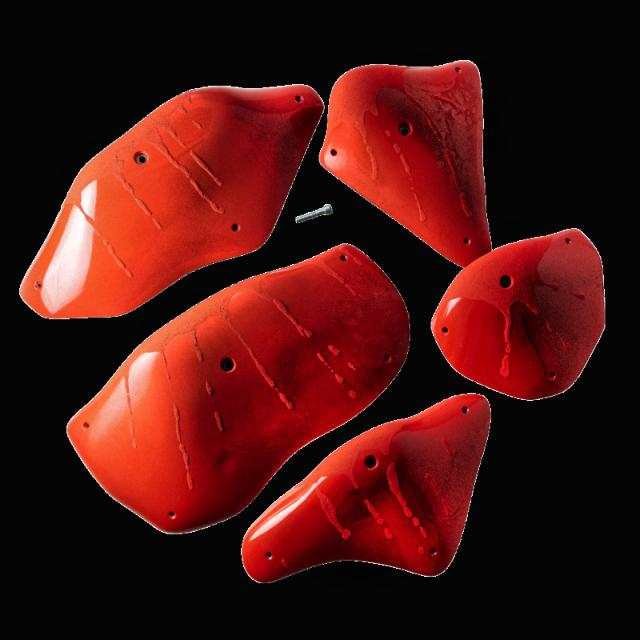Hold: (22, 228, 426, 539), (7, 71, 330, 328), (221, 377, 504, 599), (298, 51, 506, 280), (437, 229, 604, 397)
